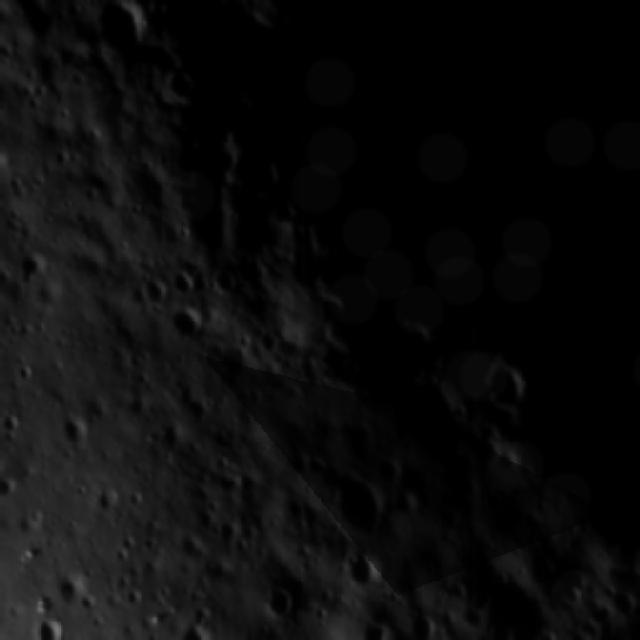crater: (325, 468, 398, 550), (480, 360, 529, 425), (90, 5, 150, 57), (254, 578, 304, 624), (158, 301, 210, 345), (155, 63, 196, 114), (146, 417, 188, 463), (11, 244, 55, 287), (50, 570, 93, 612), (208, 262, 244, 308), (53, 412, 92, 454), (172, 526, 210, 563), (602, 584, 638, 622), (28, 616, 68, 638)
